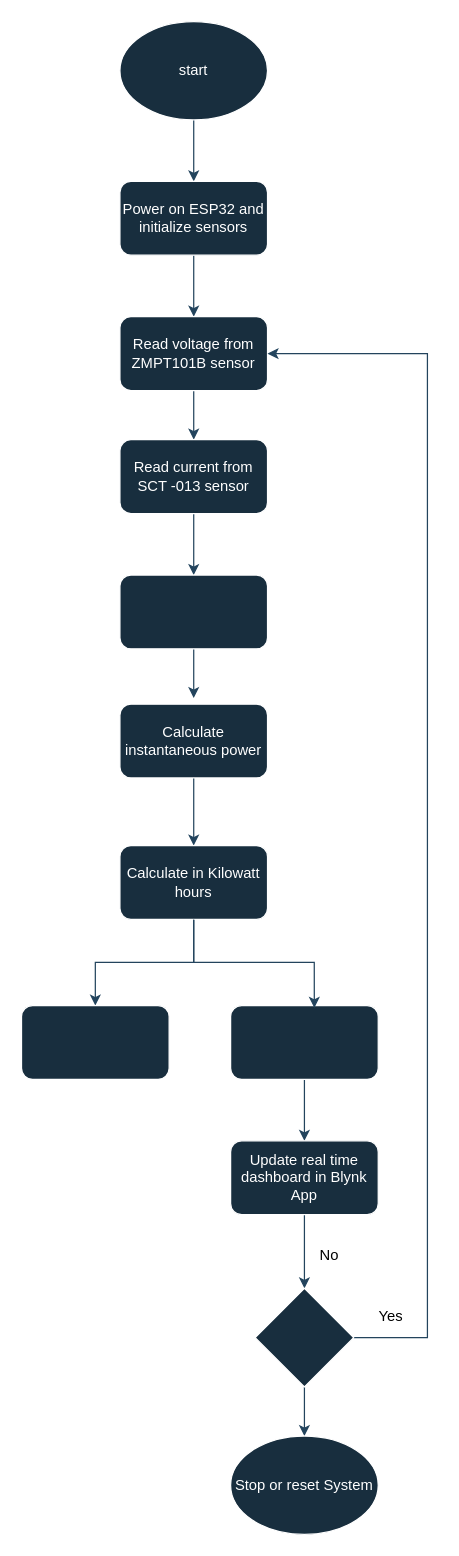
Image size: 459x1556. Some labels were removed from this diagram. Here are the shapes that lost their labels. From the top down, the centre of each, then its label:
the point at 193,611: Cover analog signal to digital value
the point at 94,1041: Display data on LCD
the point at 303,1041: Send data to Blynk app via cloud server via WiFi
the point at 304,1337: More Data ?
